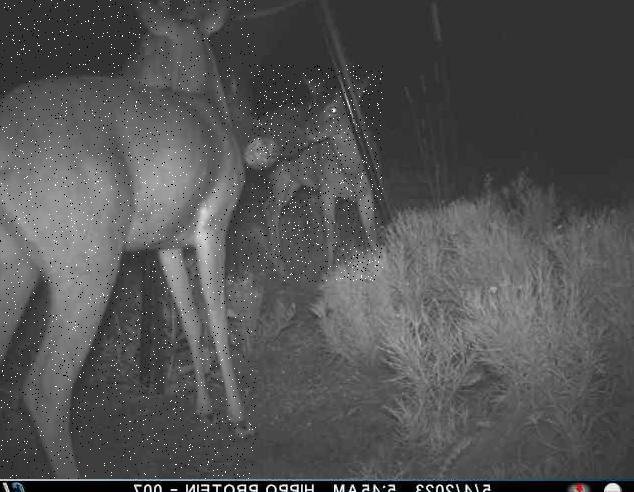Deer: (0, 0, 256, 479), (257, 65, 383, 282)
